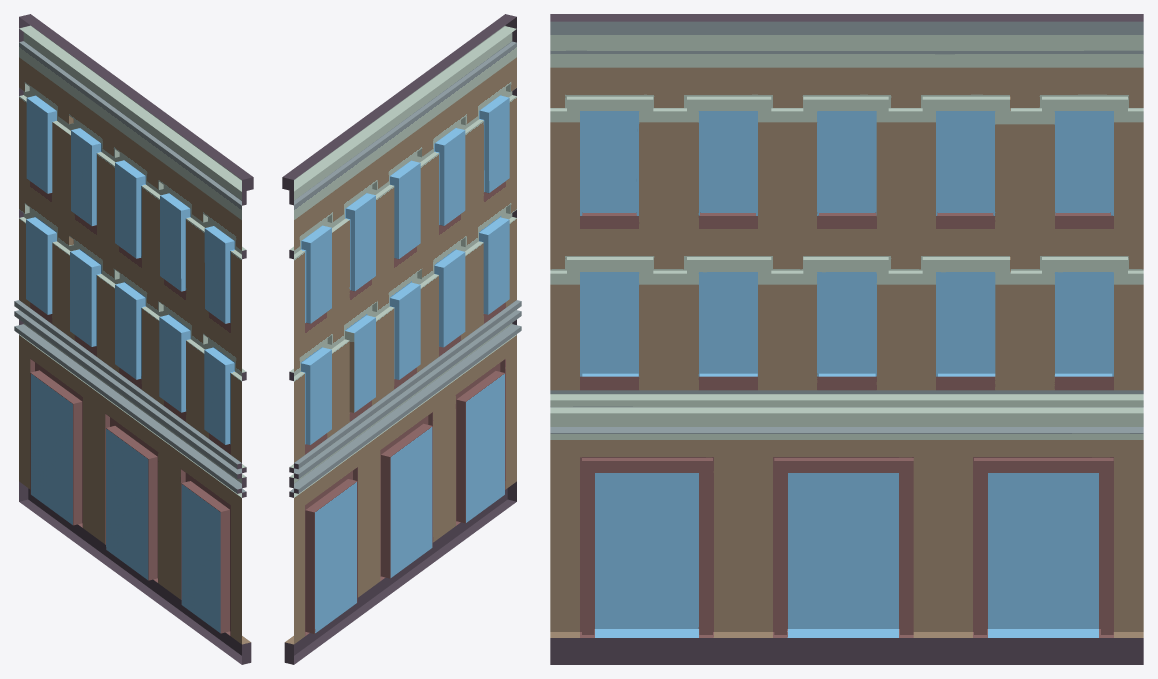
The model's file is building6.glb.
The picture shows the model from 3 angles, left to right: view 1: azimuth 30°, elevation 25°; view 2: azimuth 150°, elevation 25°; view 3: azimuth 270°, elevation 25°; orthographic projection. The views are drawn at different scales.
Visible parts, largest first — view 1: 4; view 2: 4; view 3: 4.
Boxes of the visible parts, <box> form: 4: <box>14,14,253,664</box>; 4: <box>282,14,521,664</box>; 4: <box>550,14,1143,664</box>.
Size of the model in its own units: 0.035 by 1 by 0.8333.
Materials: 1 (1 with a texture image).
